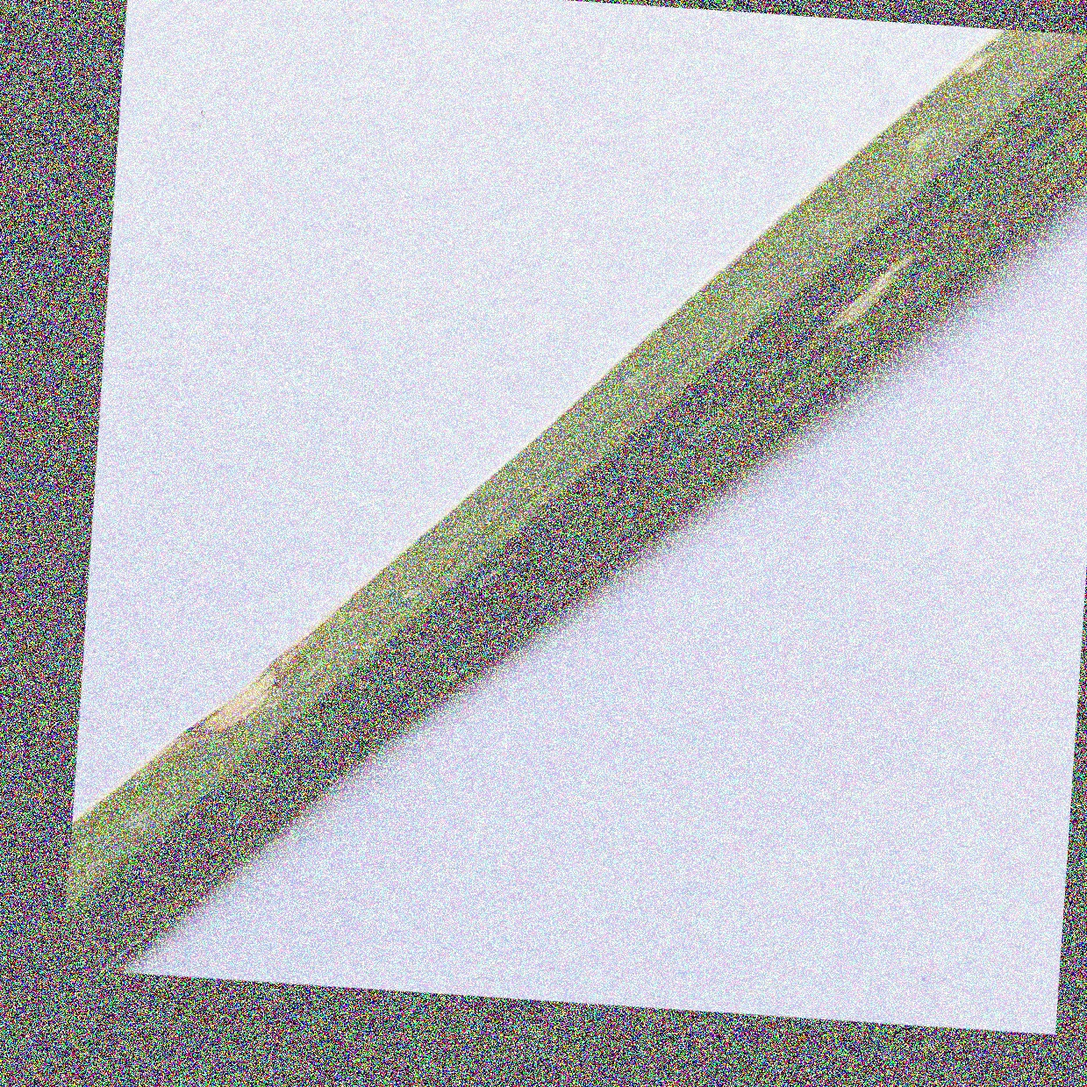Brown_Spot: (169, 623, 308, 748), (812, 218, 928, 344)
